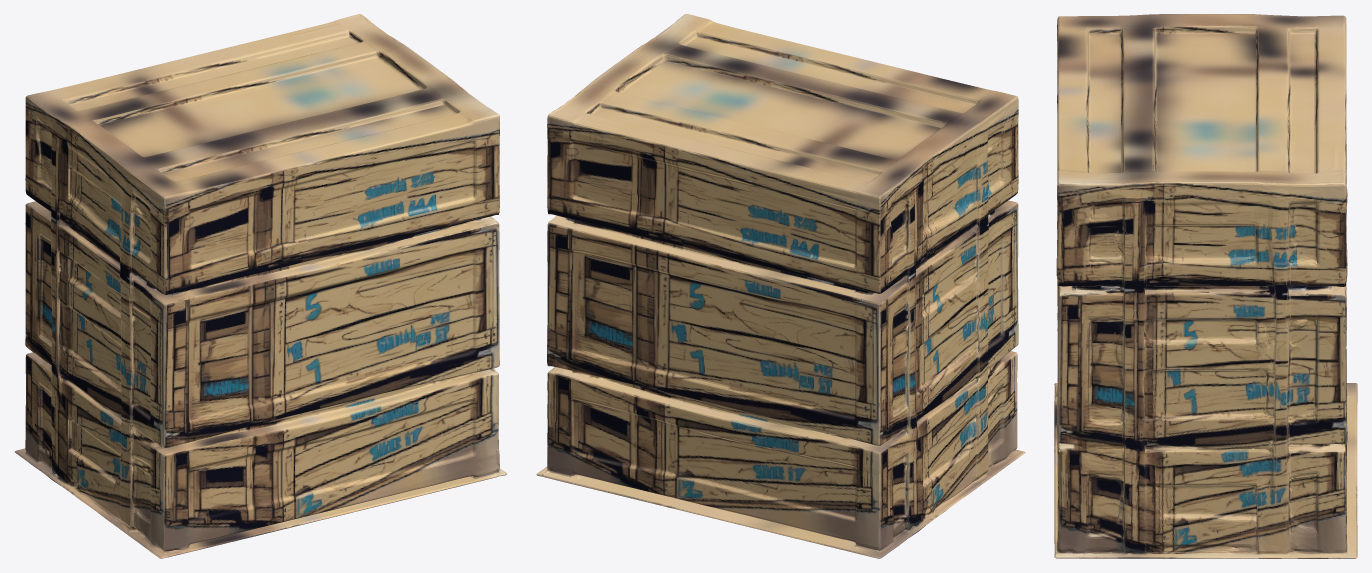
The model's file is crates.glb.
The picture shows the model from 3 angles, left to right: view 1: azimuth 30°, elevation 25°; view 2: azimuth 150°, elevation 25°; view 3: azimuth 270°, elevation 25°; orthographic projection. The views are drawn at different scales.
Parts seen in each view (by area): view 1: crates; view 2: crates; view 3: crates.
Part boxes in pixels (x1=…): crates: x1=15, y1=14, x2=507, y2=558; crates: x1=536, y1=14, x2=1025, y2=558; crates: x1=1054, y1=14, x2=1357, y2=558.
Size of the model in its own units: 1.48 by 1.48 by 1.08.
1 material, 1 textured.
